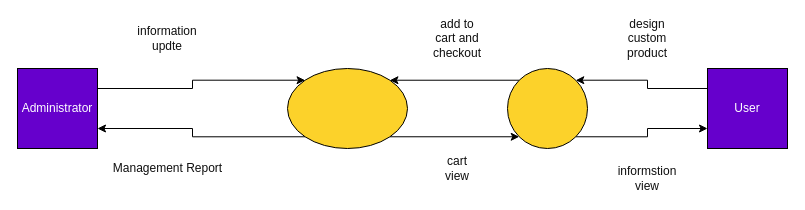
This 805x210 diagram has some shape labels left out. Each missing label, with the centre of its shape:
Design: (547,108)
Online shopping: (347,108)
